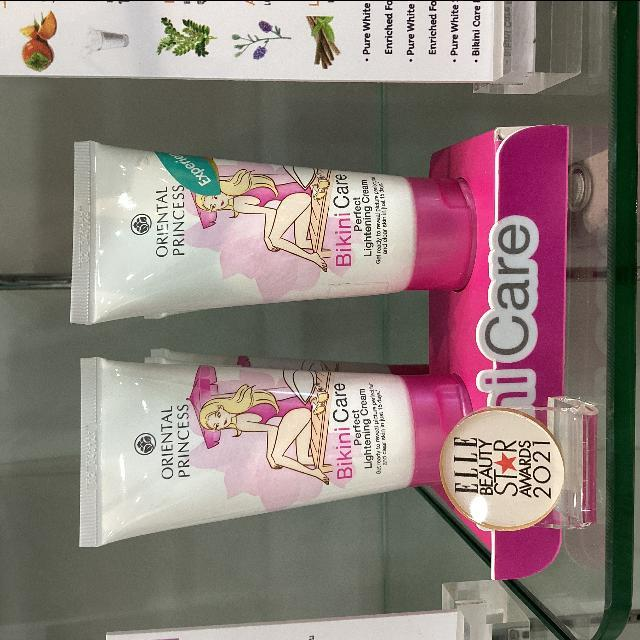Squeeze Tube: (37, 120, 514, 560), (70, 352, 481, 558), (64, 137, 478, 340)
